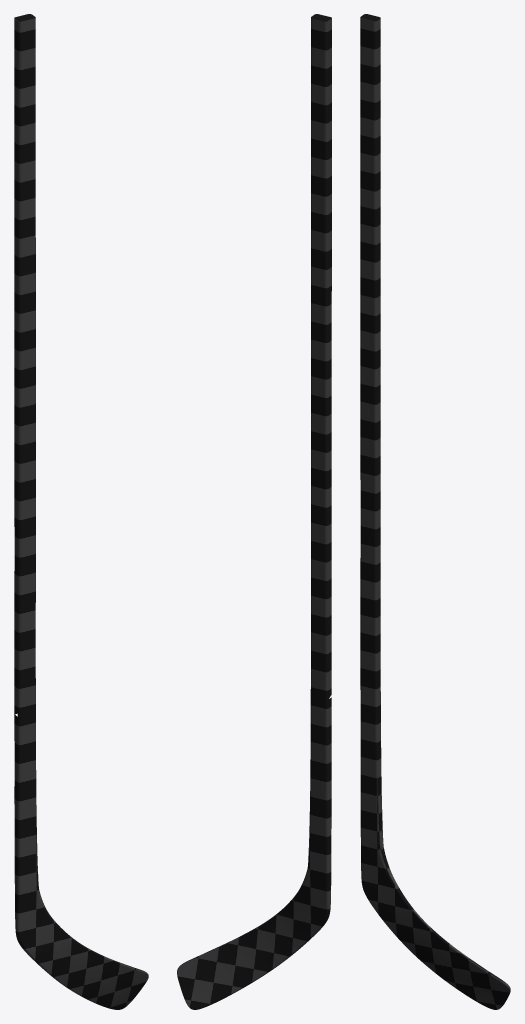
The picture shows the model from 3 angles, left to right: view 1: azimuth 30°, elevation 25°; view 2: azimuth 150°, elevation 25°; view 3: azimuth 330°, elevation 25°; orthographic projection. The views are drawn at different scales.
Visible parts, largest first — view 1: geometry_0; view 2: geometry_0; view 3: geometry_0.
Part boxes in pixels (x1,y1,x2,y2): geometry_0: [14, 14, 148, 1009]; geometry_0: [177, 14, 331, 1009]; geometry_0: [360, 14, 510, 1009].
Bounding box in the file's own units: 242 × 1650 × 61.63.
Materials: 1 (1 with a texture image).
